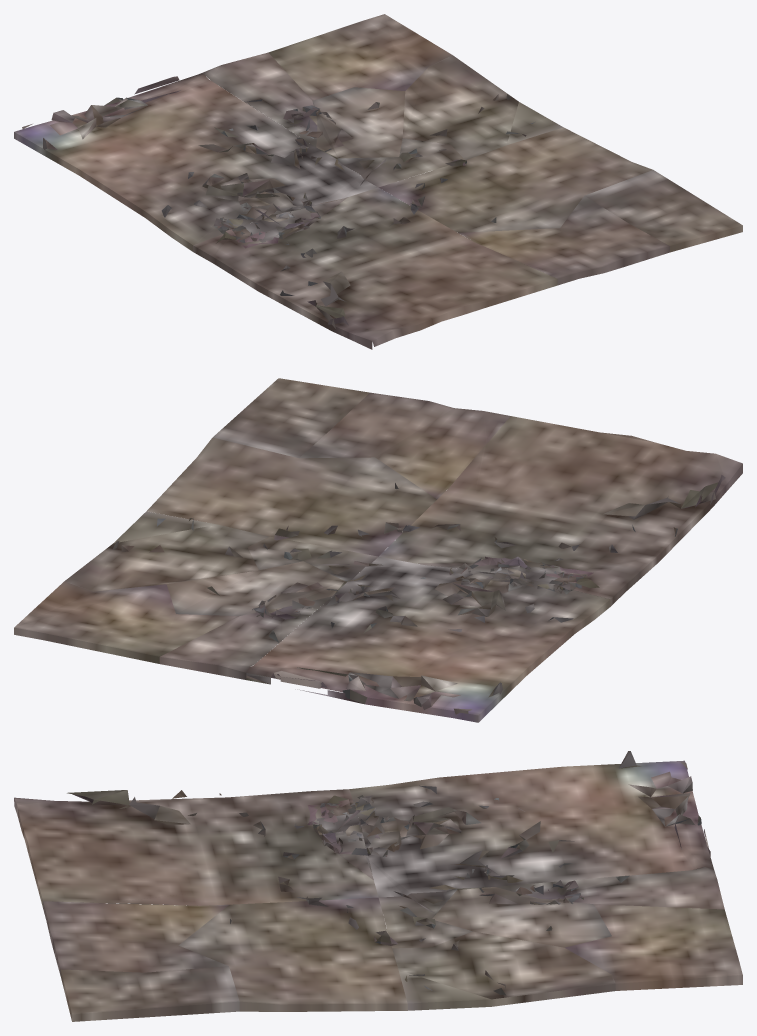
3 views of the same model, one above another, from view 1: azimuth 30°, elevation 25°; view 2: azimuth 150°, elevation 25°; view 3: azimuth 270°, elevation 25° (orthographic). The views are drawn at different scales.
Parts seen in each view (by area): view 1: Mesh_0; view 2: Mesh_0; view 3: Mesh_0.
Boxes of the visible parts, bbox=[...] form: Mesh_0: bbox=[14, 14, 742, 349]; Mesh_0: bbox=[14, 378, 742, 722]; Mesh_0: bbox=[14, 751, 742, 1021].
Size of the model in its own units: 1064 by 114 by 1317.
Materials: 1 (1 with a texture image).
